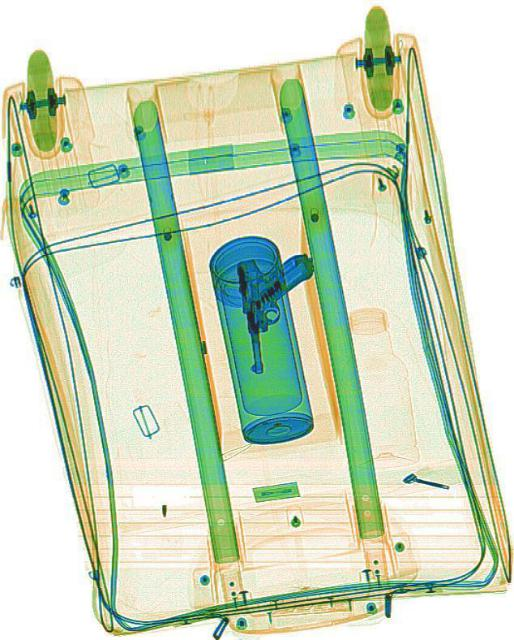Gun: (235, 248, 323, 374)
